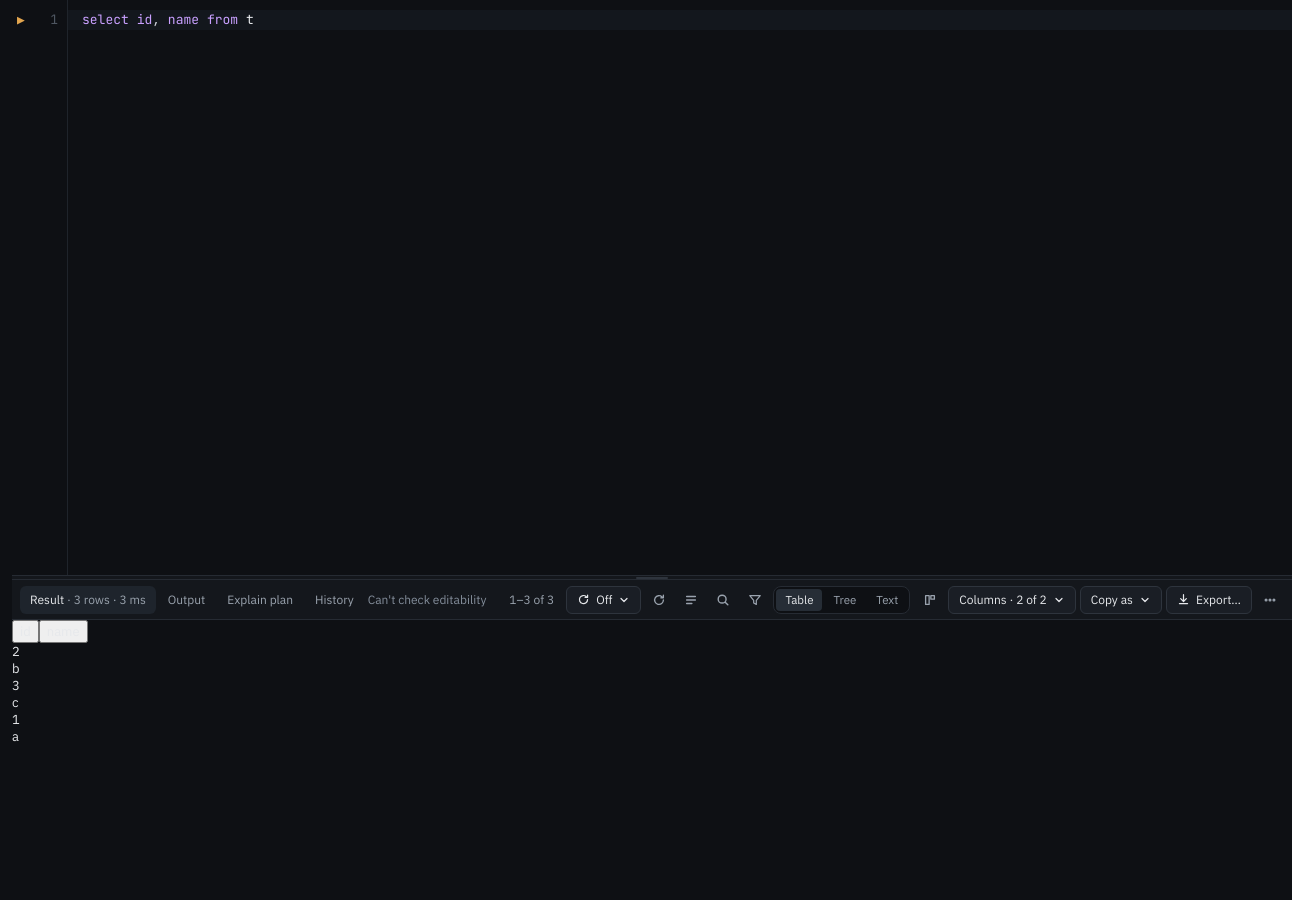
Test case: columns and transpose › filters the loaded rows
Expected: the table is shown, 12,620 -> 88,745
Click the button named "Filter results" at (691, 600), box 677,586 -> 705,614
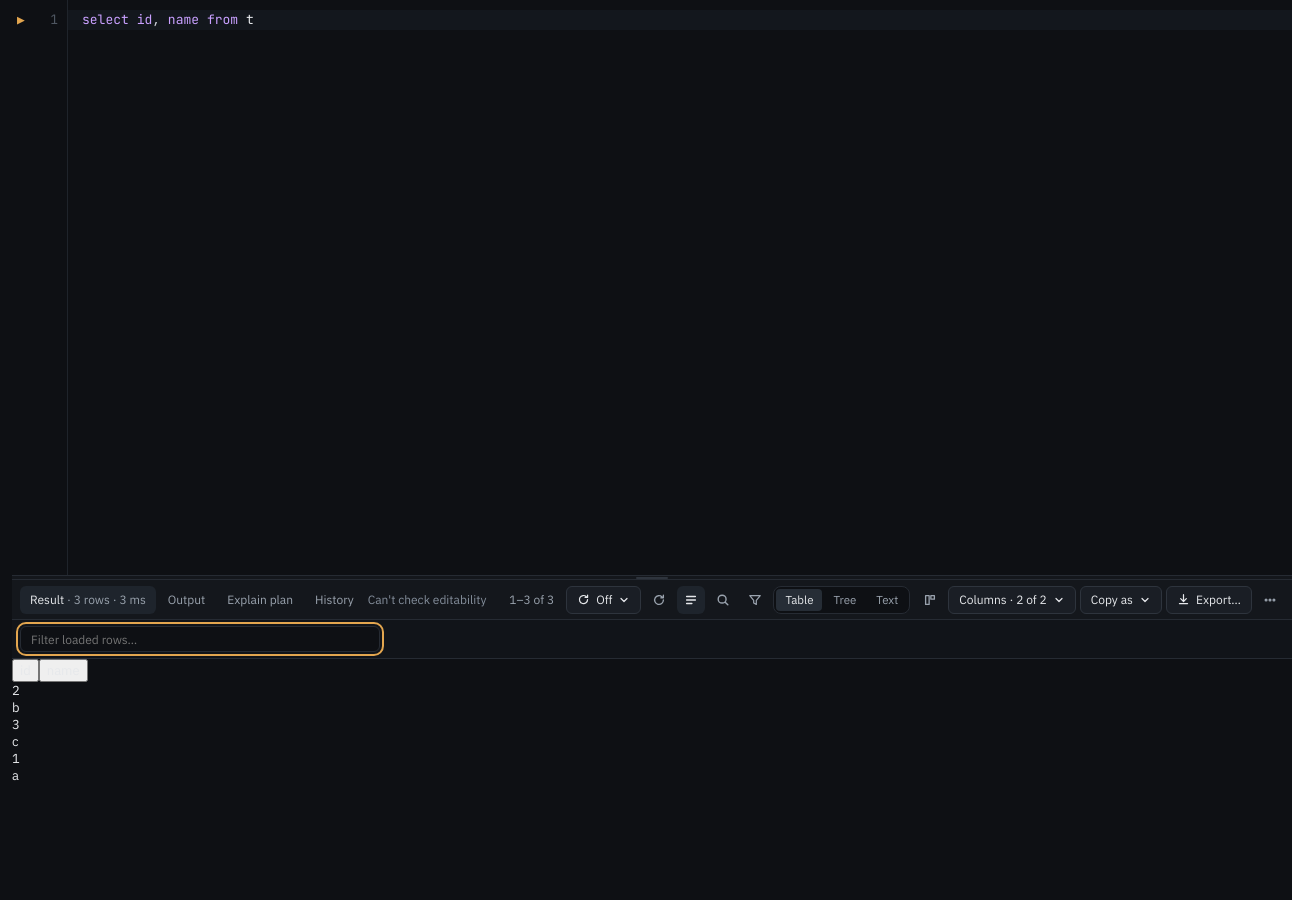
Type "b" into the field named "Filter rows" at (200, 639), box 20,626 -> 380,652
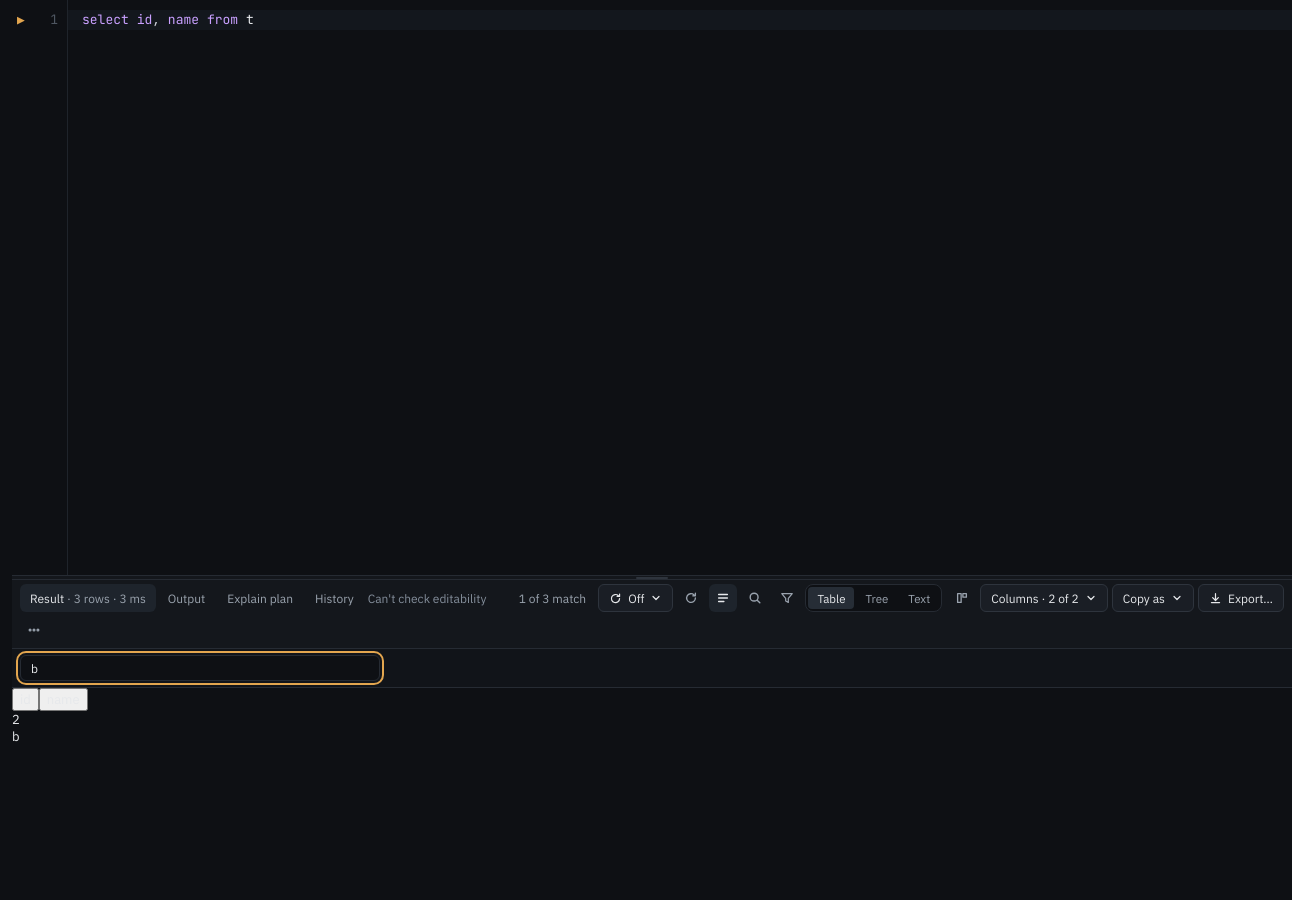
Now the text "1 of 3 match" is shown, box 519,590 -> 586,606
